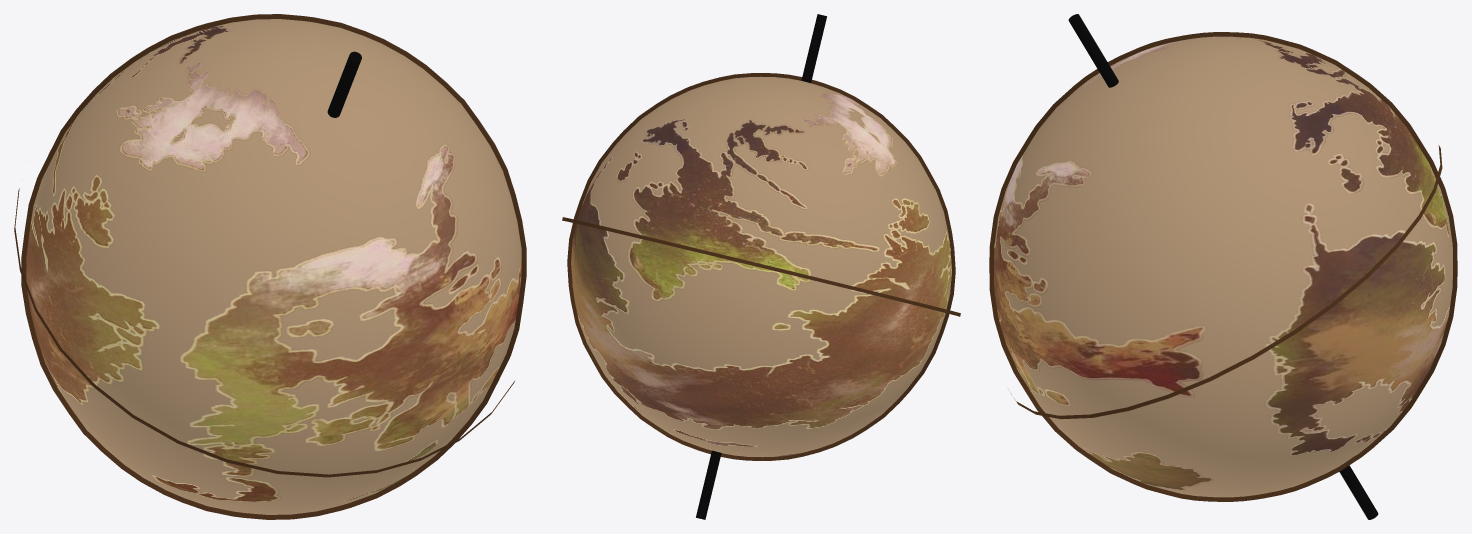
Rendered from the_world_of_remnant.glb.
3 views of the same model, side by side, from view 1: azimuth 30°, elevation 25°; view 2: azimuth 150°, elevation 25°; view 3: azimuth 270°, elevation 25° (orthographic). The views are drawn at different scales.
Parts seen in each view (by area): view 1: Globe, outline, equator, axis; view 2: Globe, outline, equator, axis; view 3: Globe, outline, equator, axis.
Part boxes in pixels (x1,y1,x2,y2): Globe: (26,19,521,514); outline: (21,14,526,519); equator: (14,188,514,477); axis: (327,51,361,117); Globe: (571,76,951,457); outline: (567,73,955,460); equator: (562,217,960,316); axis: (696,14,826,519); Globe: (994,36,1452,497); outline: (989,32,1457,501); equator: (1011,145,1442,419); axis: (1068,14,1378,519).
Bounding box in the file's own units: 0.0215 × 0.0241 × 0.0203.
Materials: 3 (1 with a texture image).
